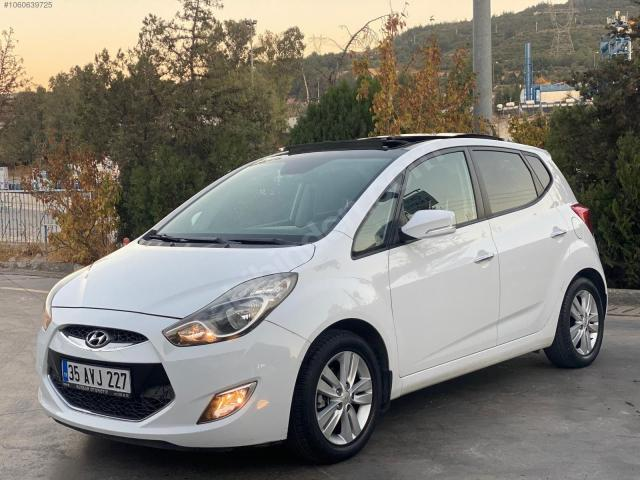plaka: (62, 361, 130, 394)
